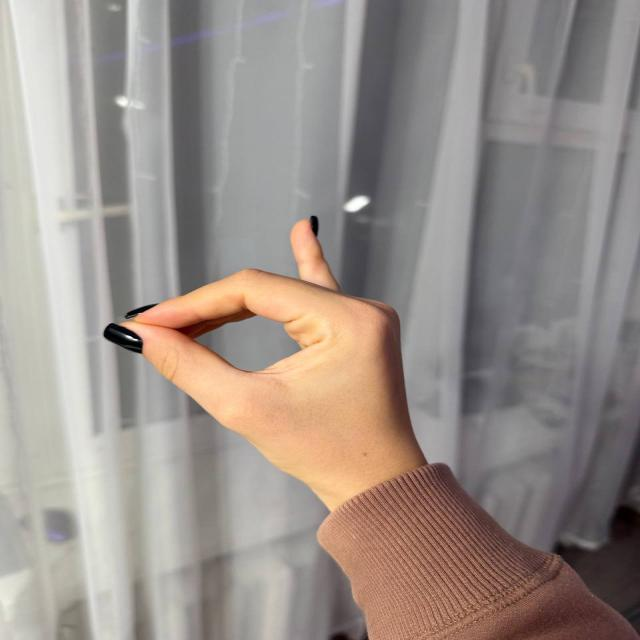iu: (82, 216, 483, 470)
